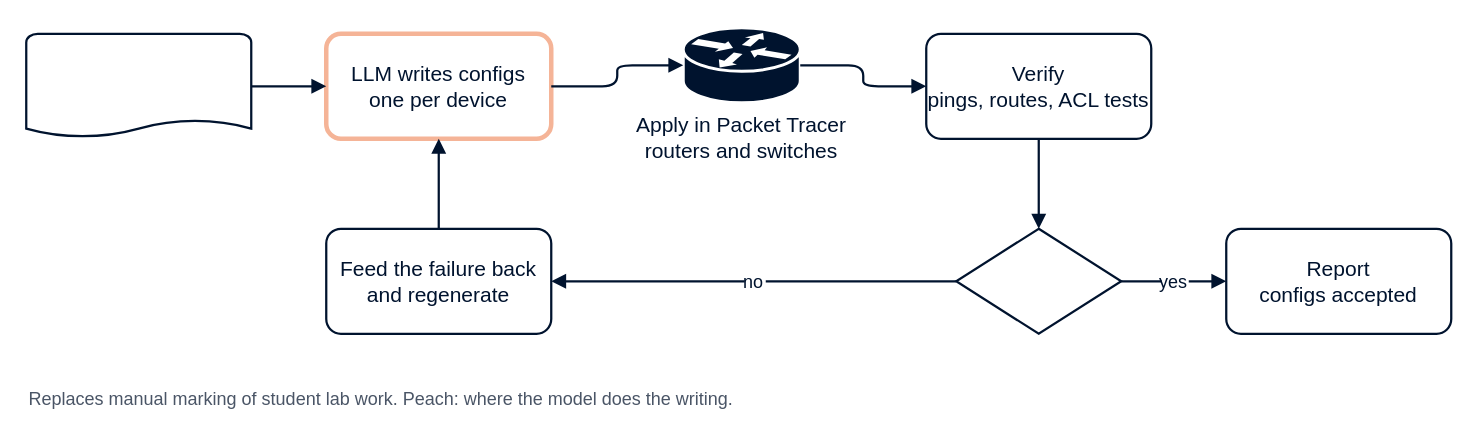
Some shapes in this 1479 by 440 pixel diagram are drawn without their labels. The shapes that lost their labels are listed below. From the top down, each one's box as (x1, y1, x2, y2) in pixels, then its label:
(24, 32, 252, 139): Lab spec routing, VLAN, NAT, ACL
(954, 227, 1122, 334): Pass?
